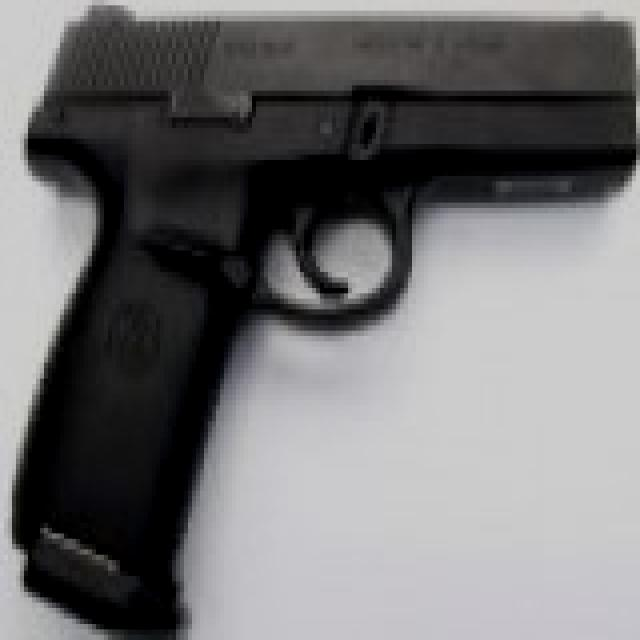pistol: (16, 0, 640, 635)
